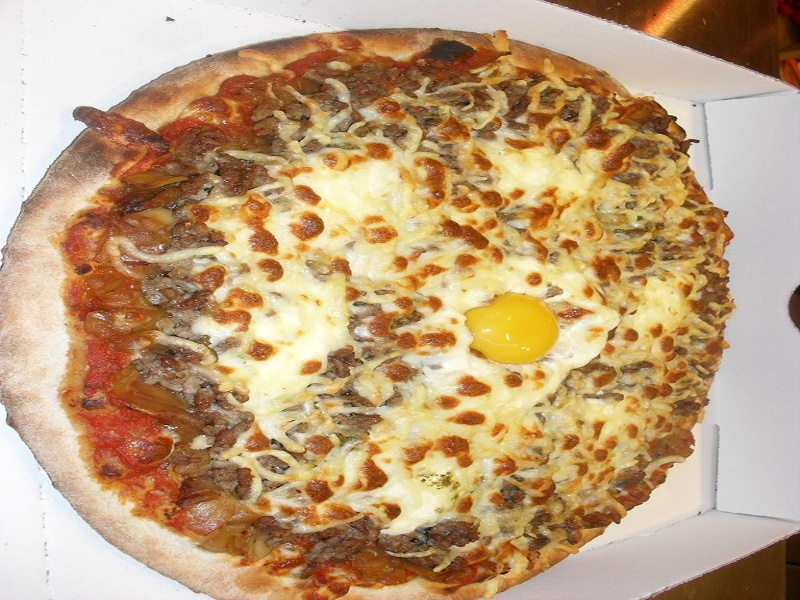oeuf: (440, 274, 567, 378)
